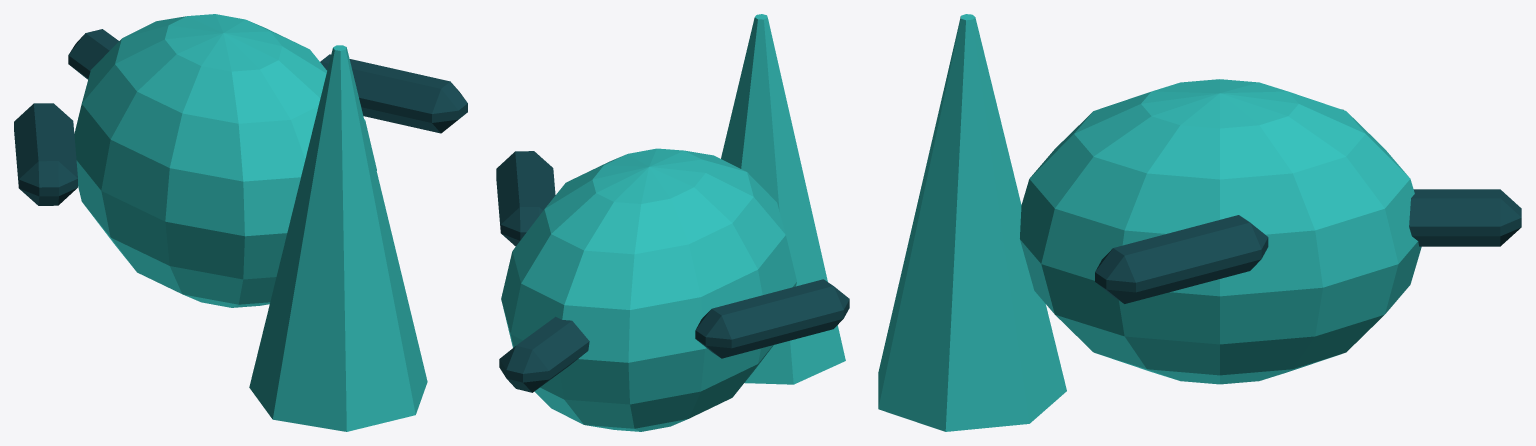
Rendered from LumenWisp.glb.
The picture shows the model from 3 angles, left to right: view 1: azimuth 30°, elevation 25°; view 2: azimuth 150°, elevation 25°; view 3: azimuth 270°, elevation 25°; orthographic projection. The views are drawn at different scales.
Visible parts, largest first — view 1: Body, Tail, Shard2, Shard1, Shard3; view 2: Body, Tail, Shard1, Shard2, Shard3; view 3: Body, Tail, Shard2, Shard3.
Part boxes in pixels (x1=…): Body: x1=74, y1=14, x2=376, y2=307; Tail: x1=249, y1=45, x2=427, y2=431; Shard2: x1=320, y1=54, x2=467, y2=133; Shard1: x1=14, y1=103, x2=77, y2=205; Shard3: x1=68, y1=29, x2=118, y2=79; Body: x1=501, y1=148, x2=796, y2=431; Tail: x1=721, y1=14, x2=845, y2=384; Shard1: x1=695, y1=279, x2=849, y2=358; Shard2: x1=496, y1=151, x2=555, y2=246; Shard3: x1=499, y1=316, x2=589, y2=392; Body: x1=1020, y1=79, x2=1421, y2=384; Tail: x1=878, y1=14, x2=1066, y2=431; Shard2: x1=1095, y1=215, x2=1268, y2=303; Shard3: x1=1409, y1=189, x2=1521, y2=246.
Bounding box in the file's own units: 3.28 × 2.7 × 4.21.
Materials: 1 (1 with a texture image).
